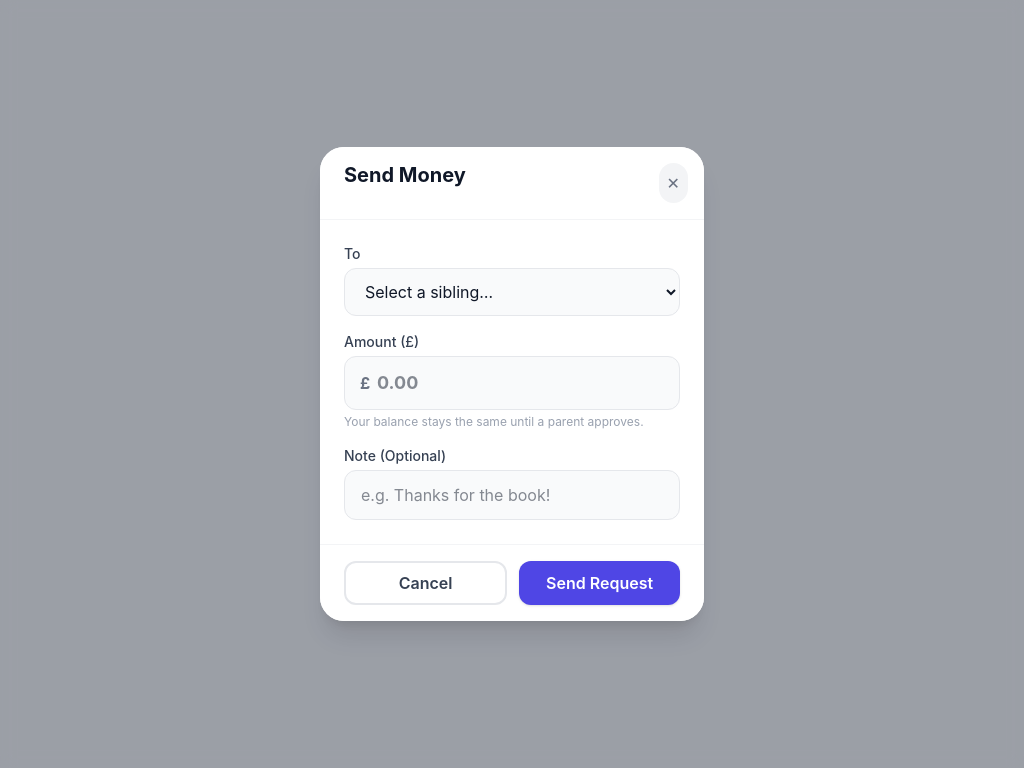
Test: SendMoneyModal — submission › blocks a negative amount
The width and height of the screenshot is (1024, 768).
Select "Child Two" in the dropdown labelled "To" at (512, 292), box x1=344 y1=268 x2=680 y2=316
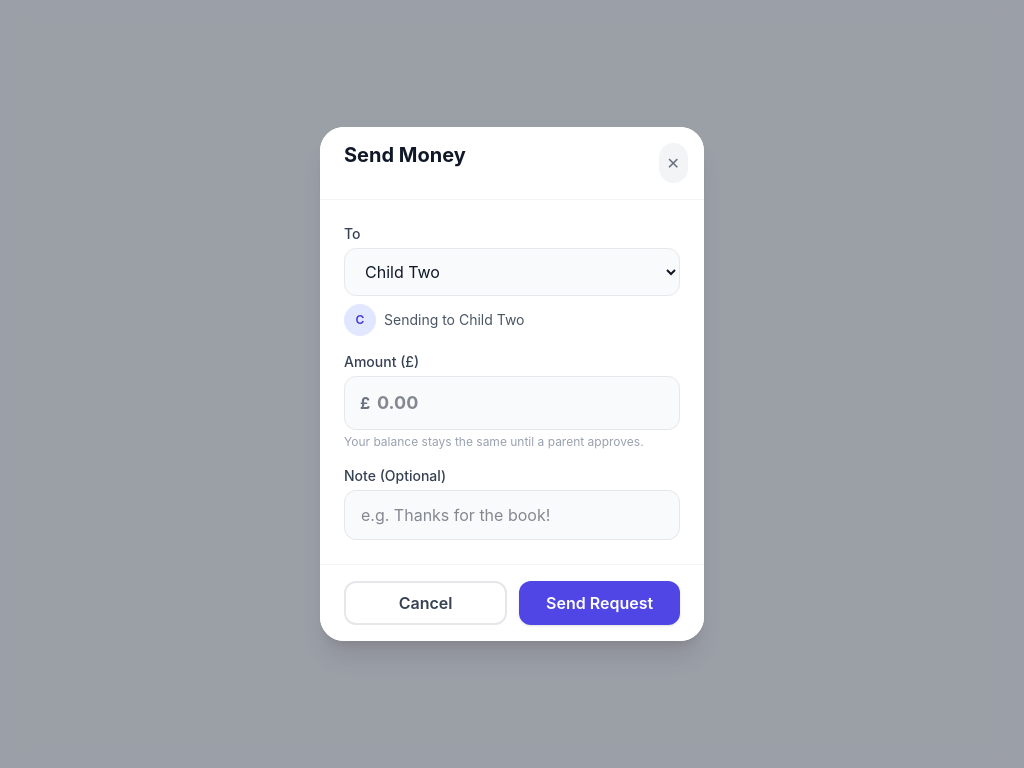
Type "-5" into the number field labelled "Amount (£)".
click(512, 403); type("-5")  # box x1=344 y1=376 x2=680 y2=430
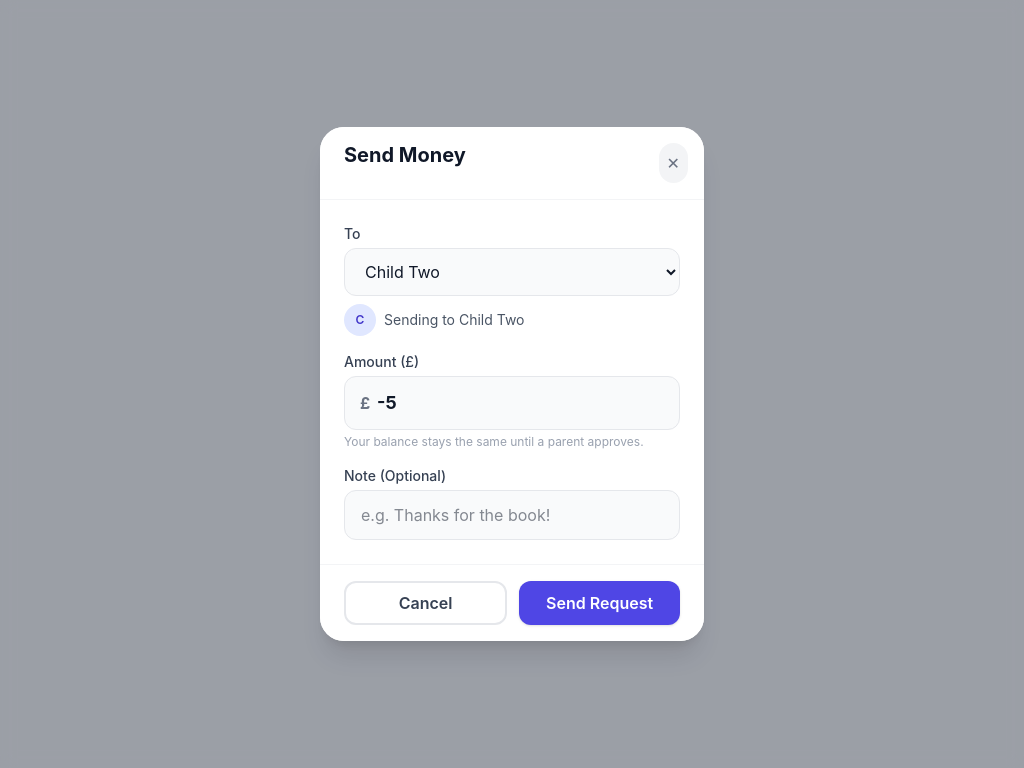
Submit the form with test id "send-money-form", box x1=320 y1=200 x2=704 y2=641
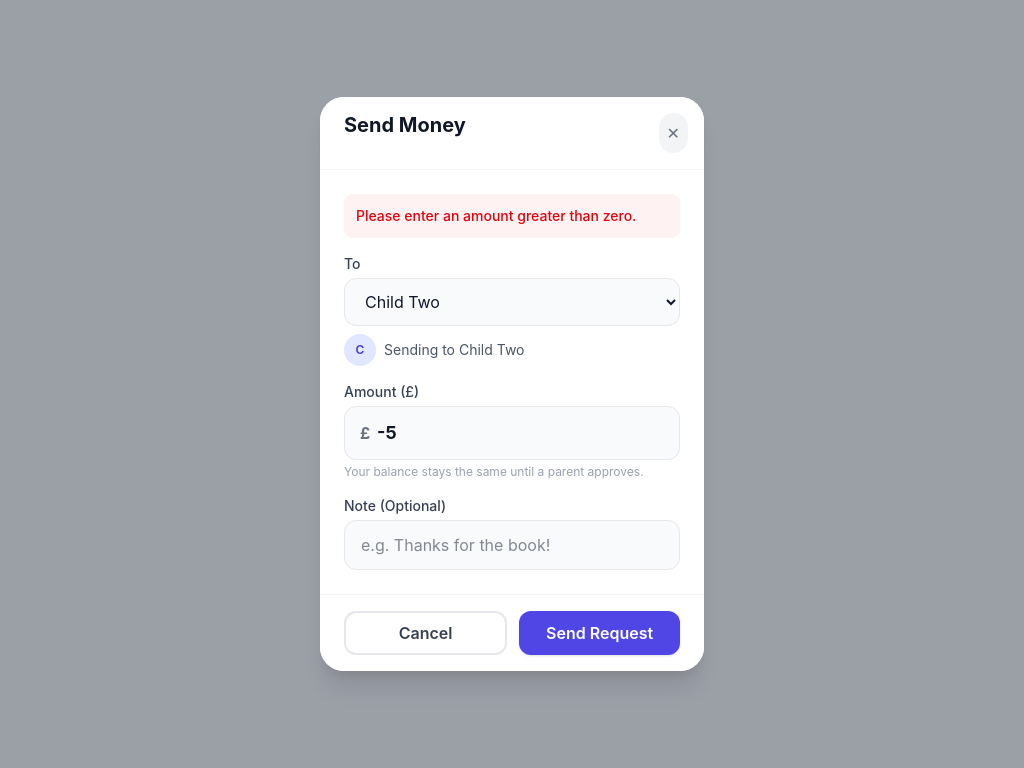
Result: the text "Please enter an amount greater than zero." is shown at x1=344 y1=194 x2=680 y2=238
